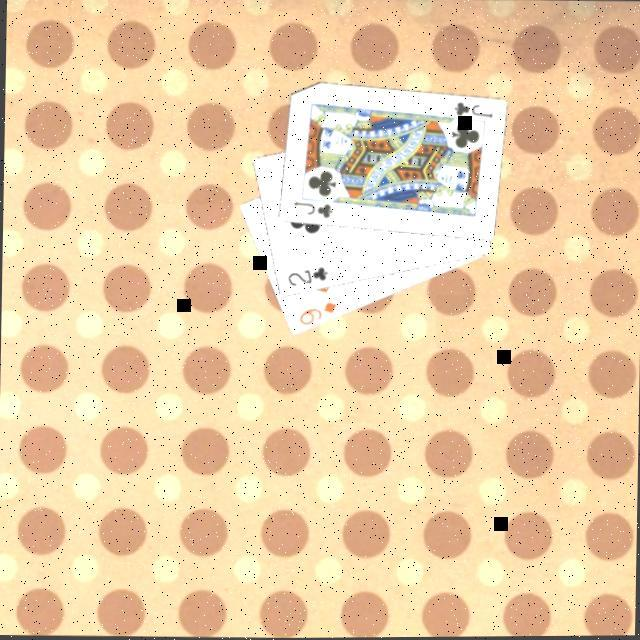2C: (281, 265, 328, 292)
9D: (293, 300, 338, 331)
JC: (288, 199, 333, 224), (448, 100, 493, 123)
